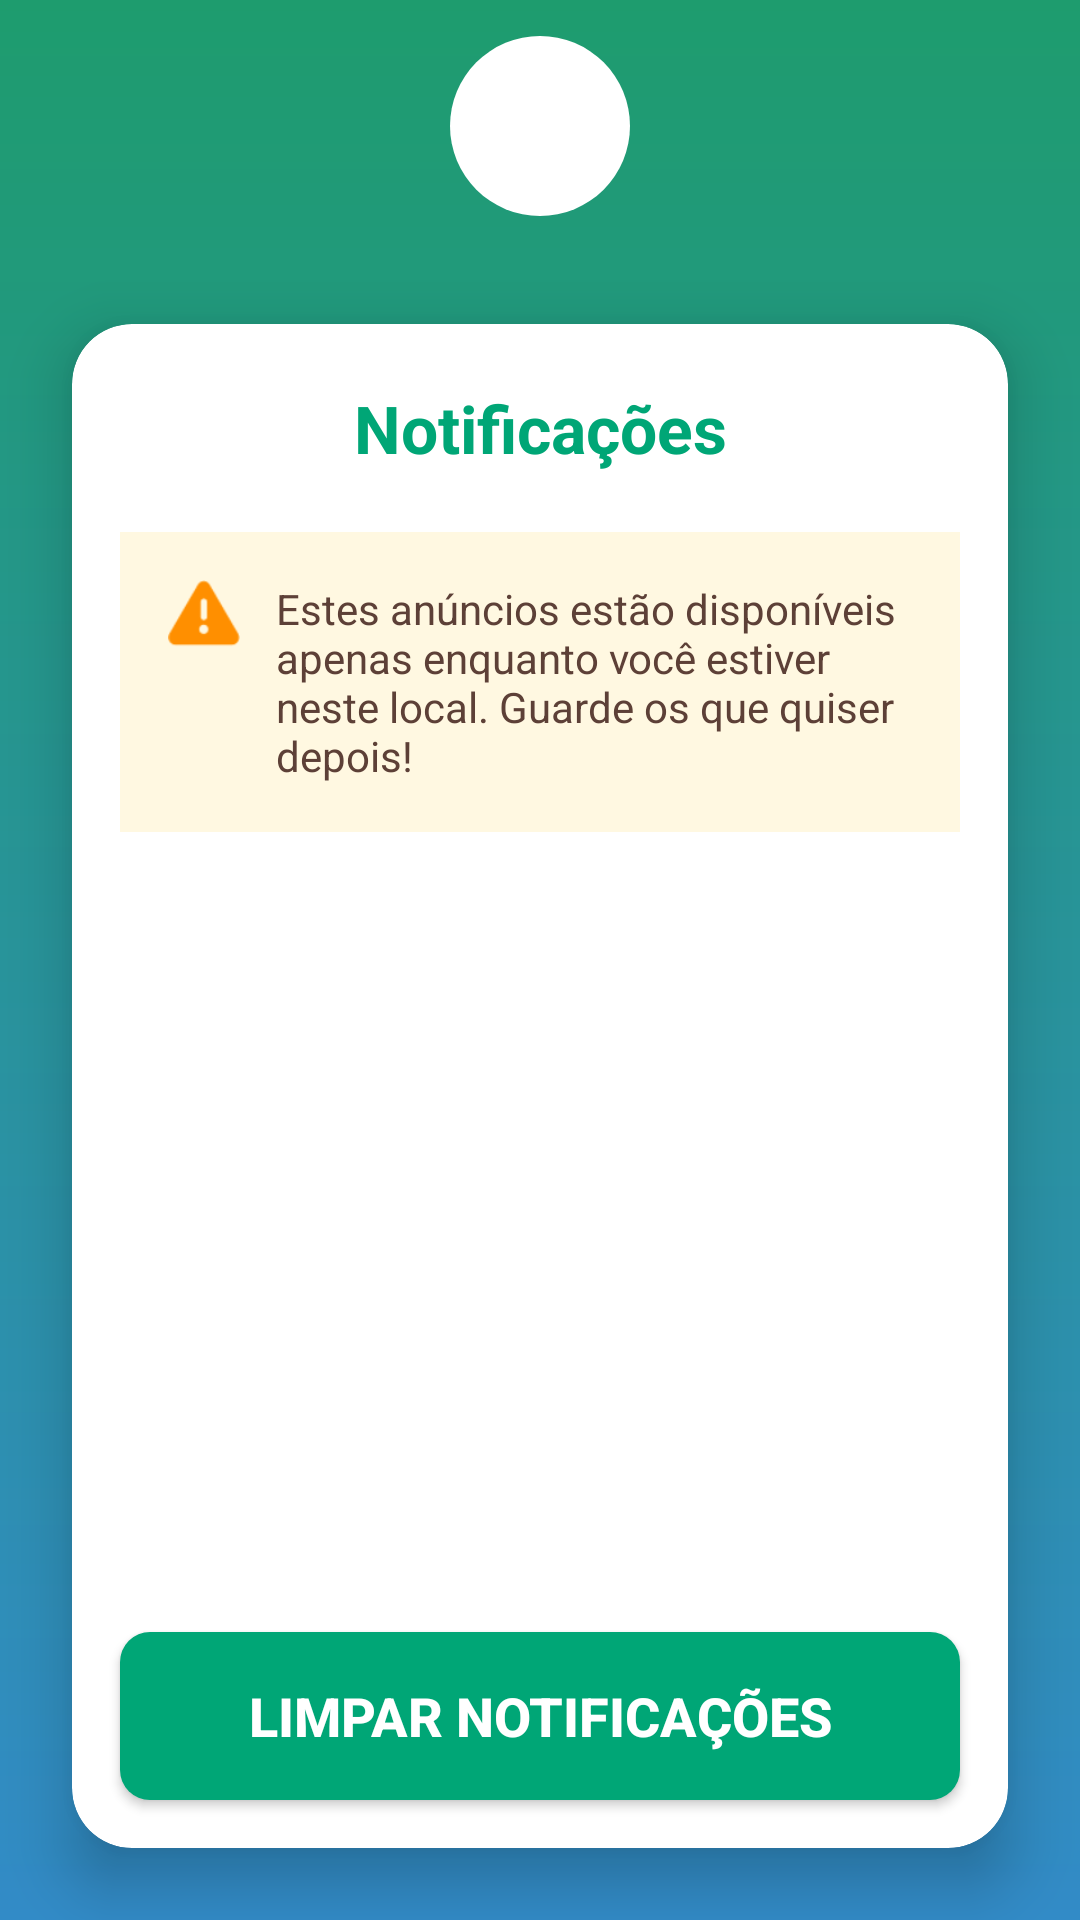

Screen size 1080px×1920px. Icon name, then its box in pixels as (x1, y1, x2, y2):
alert: (168, 580, 240, 646)
